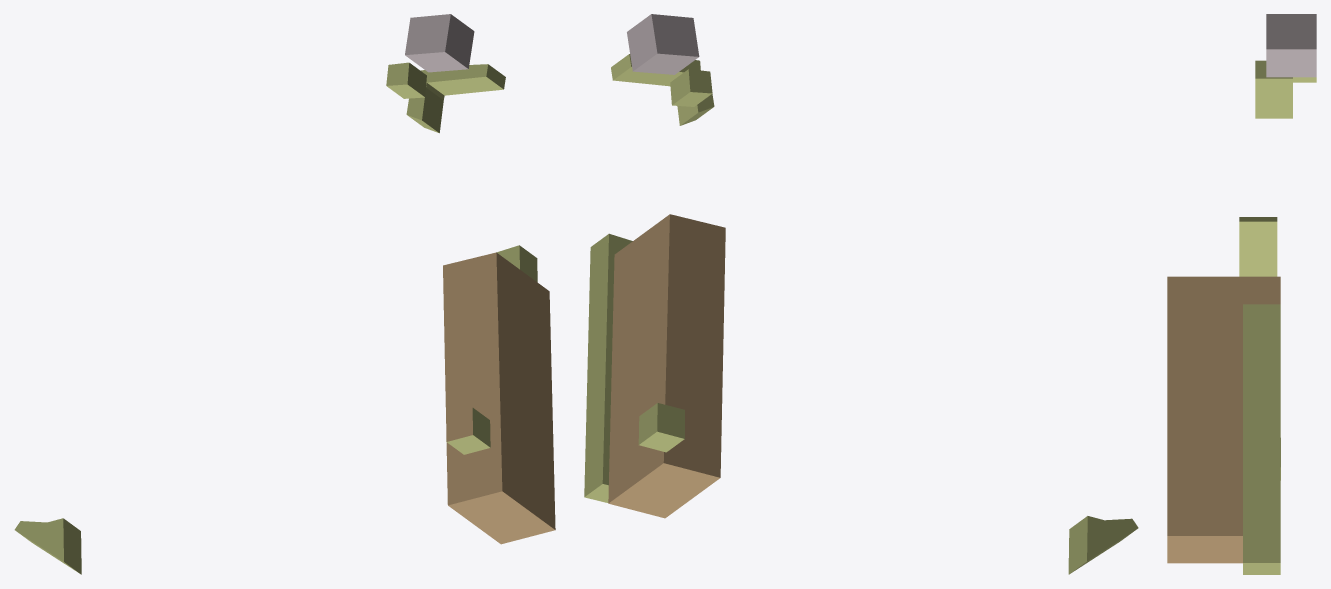
The picture shows the model from 3 angles, left to right: view 1: azimuth 30°, elevation 25°; view 2: azimuth 150°, elevation 25°; view 3: azimuth 270°, elevation 25°; orthographic projection. The views are drawn at different scales.
Parts seen in each view (by area): view 1: 0_0_1_2_0_0_1; view 2: 0_0_1_2_0_0_1; view 3: 0_0_1_2_0_0_1.
Part boxes in pixels (bbox=[...]): 0_0_1_2_0_0_1: bbox=[14, 14, 555, 574]; 0_0_1_2_0_0_1: bbox=[584, 14, 1138, 574]; 0_0_1_2_0_0_1: bbox=[1167, 14, 1316, 574].
Bounding box in the file's own units: 150 × 135 × 35.6.
